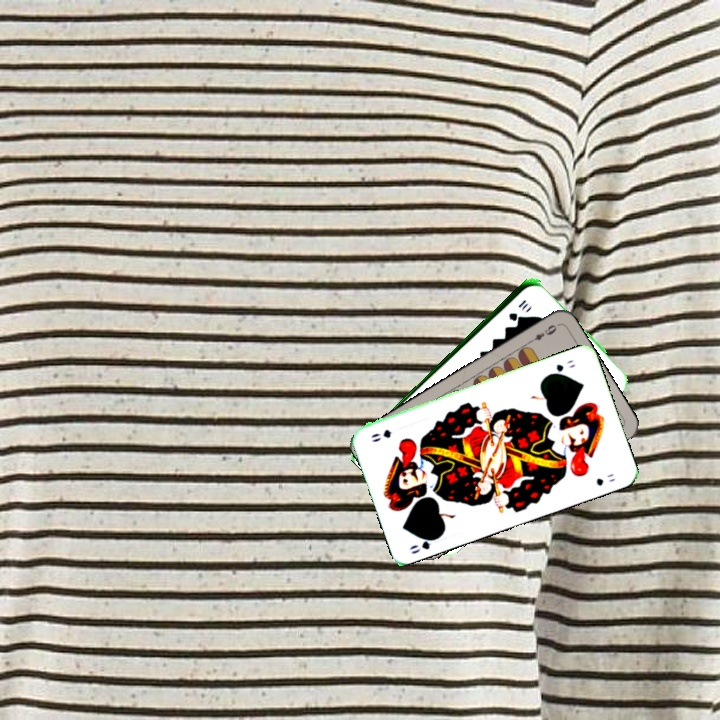E9: (524, 320, 560, 346)
G10: (505, 295, 531, 323)
GO: (405, 532, 444, 557), (544, 356, 578, 378)
